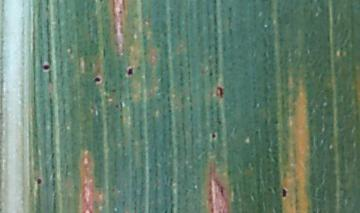tarspot: (39, 60, 53, 74), (280, 184, 290, 201), (124, 64, 136, 78), (208, 129, 220, 143), (92, 74, 104, 86), (34, 175, 45, 188), (113, 101, 122, 113)
